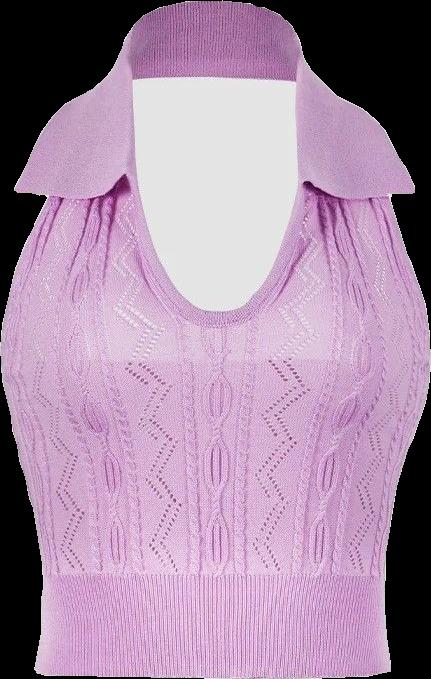Bodice: (2, 1, 430, 678)
Neckline: (119, 43, 308, 315)
Waistline: (30, 664, 398, 678)
